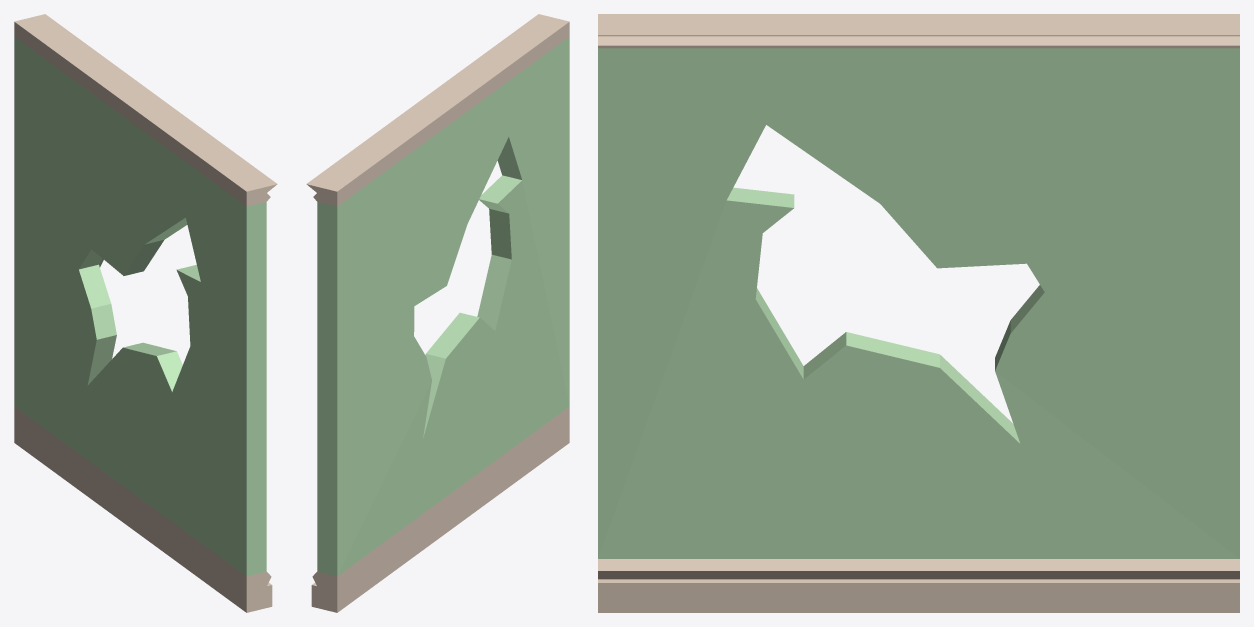
File: Wall_LargeHole5.fbx
The picture shows the model from 3 angles, left to right: view 1: azimuth 30°, elevation 25°; view 2: azimuth 150°, elevation 25°; view 3: azimuth 270°, elevation 25°; orthographic projection. The views are drawn at different scales.
Visible parts, largest first — view 1: Cube; view 2: Cube; view 3: Cube.
Part boxes in pixels (box(x1,y1,x2,y2)): Cube: box(14, 14, 277, 612); Cube: box(306, 14, 569, 612); Cube: box(598, 14, 1239, 612).
Bounding box in the file's own units: 73.97 × 800 × 800.
